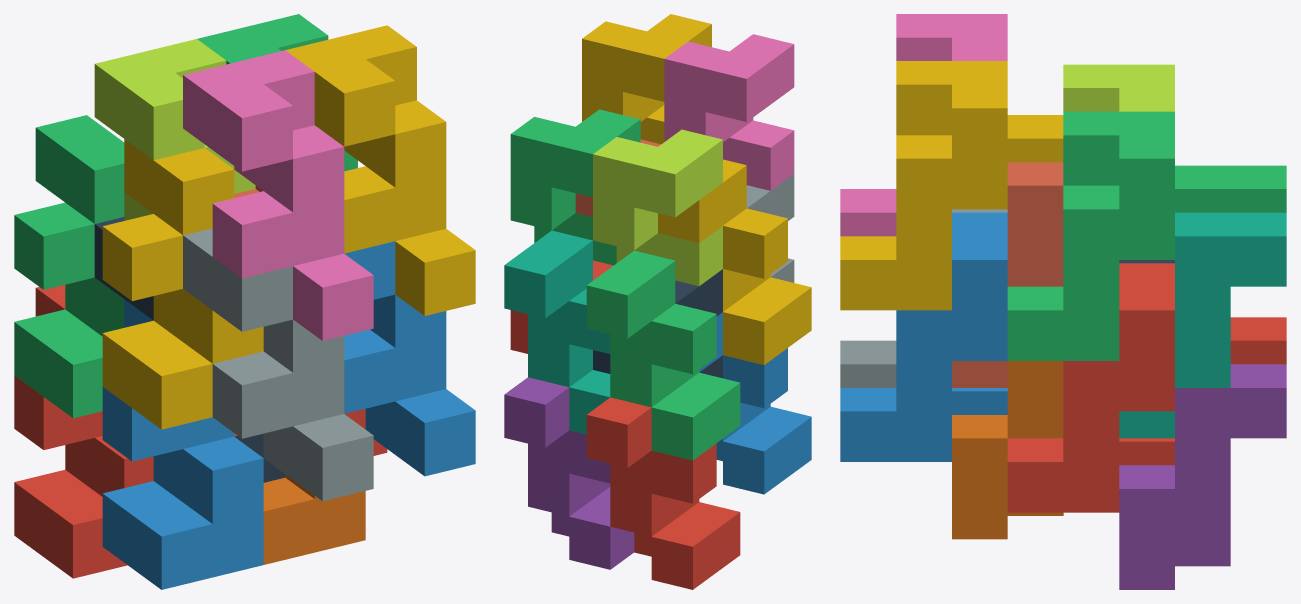
The model's file is tiling.obj.
3 views of the same model, side by side, from view 1: azimuth 30°, elevation 25°; view 2: azimuth 150°, elevation 25°; view 3: azimuth 270°, elevation 25° (orthographic). The views are drawn at different scales.
Parts seen in each view (by area): view 1: copy_2_domain_4, copy_2_domain_8, copy_1_domain_4, copy_2_domain_2, copy_1_domain_2, copy_1_domain_3, copy_2_domain_6, copy_1_domain_1, copy_2_domain_3, copy_1_domain_6, copy_2_domain_7, copy_2_domain_1; view 2: copy_1_domain_3, copy_1_domain_1, copy_2_domain_4, copy_2_domain_3, copy_1_domain_4, copy_1_domain_5, copy_1_domain_7, copy_2_domain_7, copy_2_domain_8, copy_1_domain_2, copy_2_domain_1, copy_2_domain_2 (+2 smaller); view 3: copy_2_domain_7, copy_2_domain_8, copy_1_domain_5, copy_2_domain_5, copy_2_domain_6, copy_1_domain_7, copy_1_domain_6, copy_1_domain_8, copy_2_domain_4, copy_1_domain_3, copy_2_domain_3, copy_1_domain_1 (+3 smaller).
Boxes of the visible parts, x1=… form: copy_2_domain_4: x1=183, y1=50, x2=373, y2=340; copy_2_domain_8: x1=285, y1=25, x2=475, y2=315; copy_1_domain_4: x1=102, y1=139, x2=263, y2=429; copy_2_domain_2: x1=183, y1=228, x2=373, y2=501; copy_1_domain_2: x1=102, y1=299, x2=263, y2=589; copy_1_domain_3: x1=14, y1=115, x2=124, y2=418; copy_2_domain_6: x1=344, y1=241, x2=475, y2=476; copy_1_domain_1: x1=14, y1=285, x2=153, y2=578; copy_2_domain_3: x1=94, y1=39, x2=255, y2=220; copy_1_domain_6: x1=234, y1=433, x2=365, y2=564; copy_2_domain_7: x1=197, y1=14, x2=357, y2=171; copy_2_domain_1: x1=94, y1=217, x2=285, y2=482; copy_1_domain_3: x1=586, y1=250, x2=740, y2=460; copy_1_domain_1: x1=586, y1=397, x2=740, y2=589; copy_2_domain_4: x1=664, y1=34, x2=794, y2=190; copy_2_domain_3: x1=593, y1=129, x2=722, y2=286; copy_1_domain_4: x1=658, y1=159, x2=811, y2=364; copy_1_domain_5: x1=504, y1=377, x2=634, y2=569; copy_1_domain_7: x1=504, y1=230, x2=610, y2=434; copy_2_domain_7: x1=510, y1=109, x2=640, y2=265; copy_2_domain_8: x1=582, y1=14, x2=711, y2=144; copy_1_domain_2: x1=699, y1=312, x2=811, y2=494; copy_2_domain_1: x1=593, y1=269, x2=722, y2=378; copy_2_domain_2: x1=746, y1=174, x2=794, y2=282; copy_2_domain_7: x1=1007, y1=111, x2=1174, y2=360; copy_2_domain_8: x1=840, y1=61, x2=1007, y2=310; copy_1_domain_5: x1=1119, y1=364, x2=1286, y2=589; copy_2_domain_5: x1=1007, y1=263, x2=1174, y2=512; copy_2_domain_6: x1=840, y1=212, x2=1007, y2=461; copy_1_domain_7: x1=1119, y1=212, x2=1286, y2=438; copy_1_domain_6: x1=952, y1=361, x2=1063, y2=539; copy_1_domain_8: x1=952, y1=162, x2=1063, y2=387; copy_2_domain_4: x1=840, y1=14, x2=1007, y2=236; copy_1_domain_3: x1=1175, y1=165, x2=1286, y2=212; copy_2_domain_3: x1=1063, y1=64, x2=1174, y2=111; copy_1_domain_1: x1=1119, y1=317, x2=1286, y2=465.
Bounding box in the file's own units: 5 × 10 × 8.
